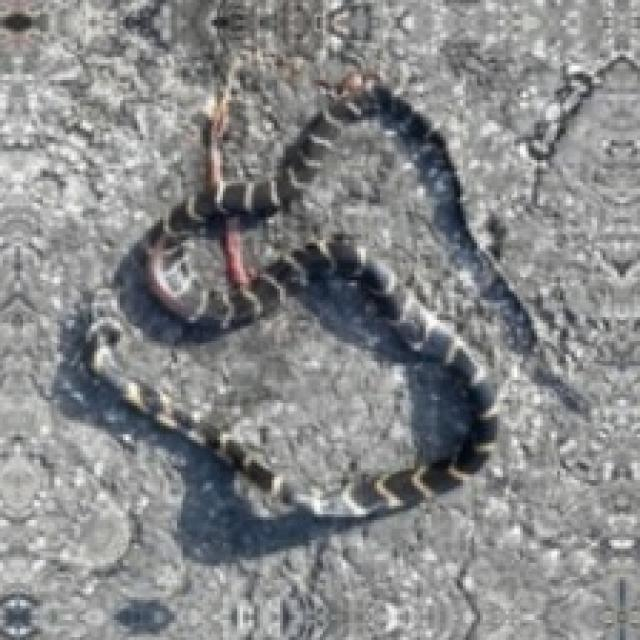king cobra: (114, 80, 586, 514), (91, 320, 251, 474)
